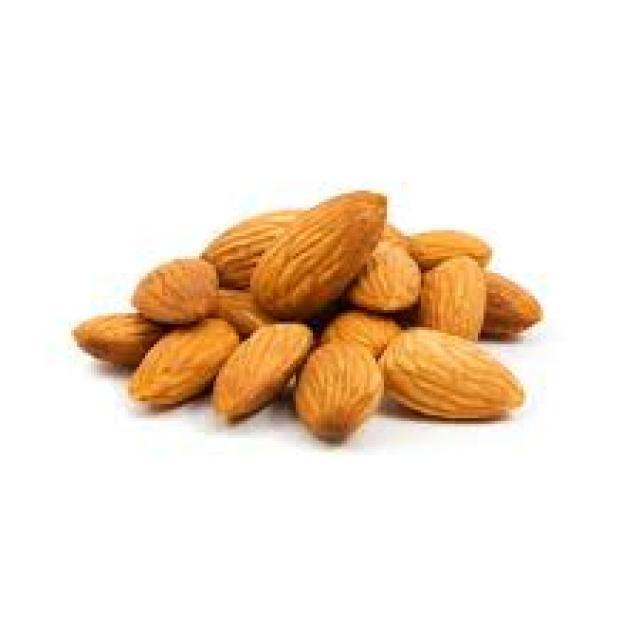almond: (254, 193, 394, 325), (385, 328, 525, 420), (212, 320, 310, 422), (132, 322, 243, 410), (298, 343, 382, 442), (199, 210, 309, 283), (414, 255, 489, 337), (135, 257, 218, 325), (77, 307, 155, 372), (350, 243, 420, 312)
